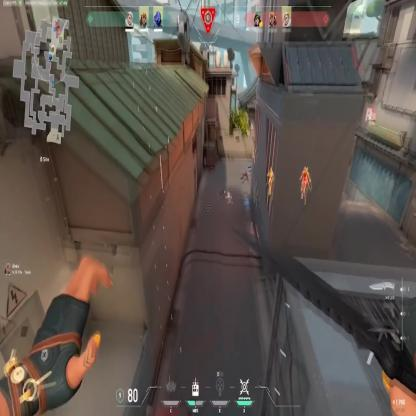enemy: (300, 167, 310, 200), (266, 167, 274, 197)
enemy_head: (304, 167, 307, 173), (270, 166, 272, 172)
